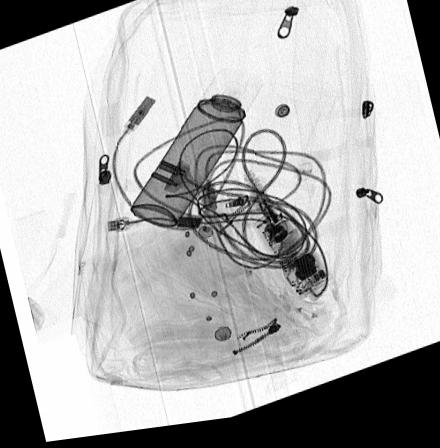Sprayer: (129, 74, 266, 233)
